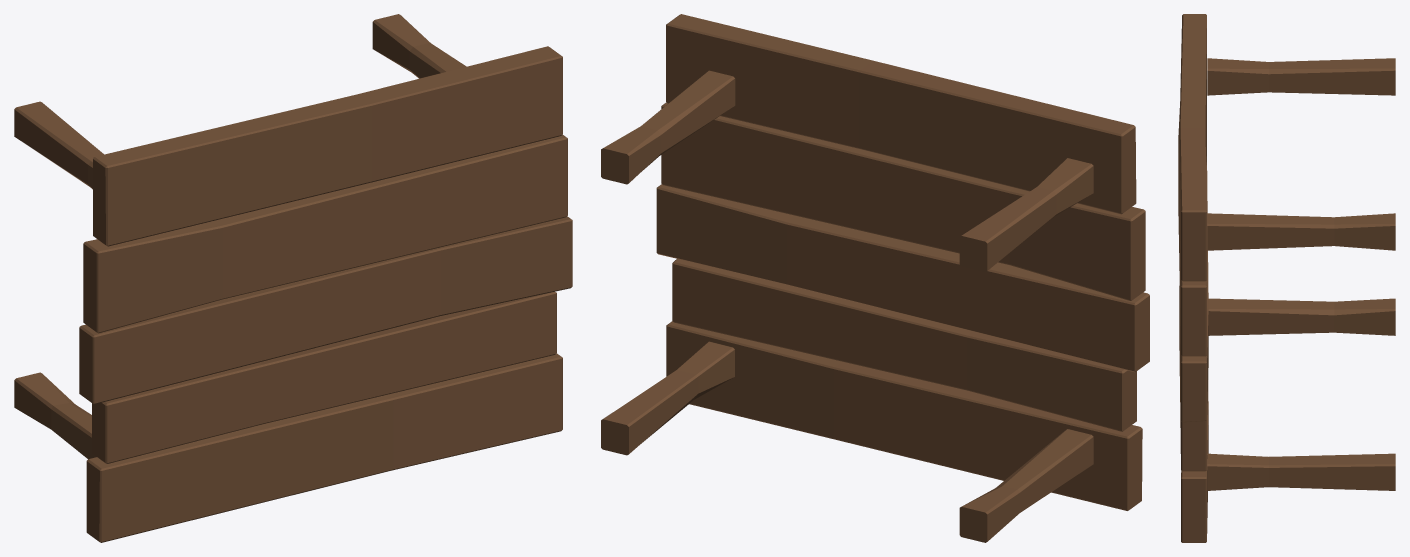
The model's file is Table_01.fbx.
The picture shows the model from 3 angles, left to right: view 1: azimuth 30°, elevation 25°; view 2: azimuth 150°, elevation 25°; view 3: azimuth 270°, elevation 25°; orthographic projection. The views are drawn at different scales.
Parts seen in each view (by area): view 1: Table_1.0_LOW.002; view 2: Table_1.0_LOW.002; view 3: Table_1.0_LOW.002.
Boxes of the visible parts, x1,y1,x2,y2 form: Table_1.0_LOW.002: (14, 14, 572, 542); Table_1.0_LOW.002: (601, 14, 1149, 542); Table_1.0_LOW.002: (1178, 14, 1395, 542).
Size of the model in its own units: 158 by 118 by 70.03.
